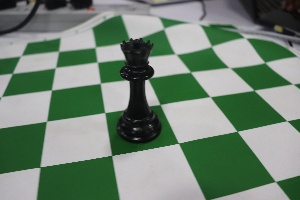black_queen: (103, 19, 170, 150)
